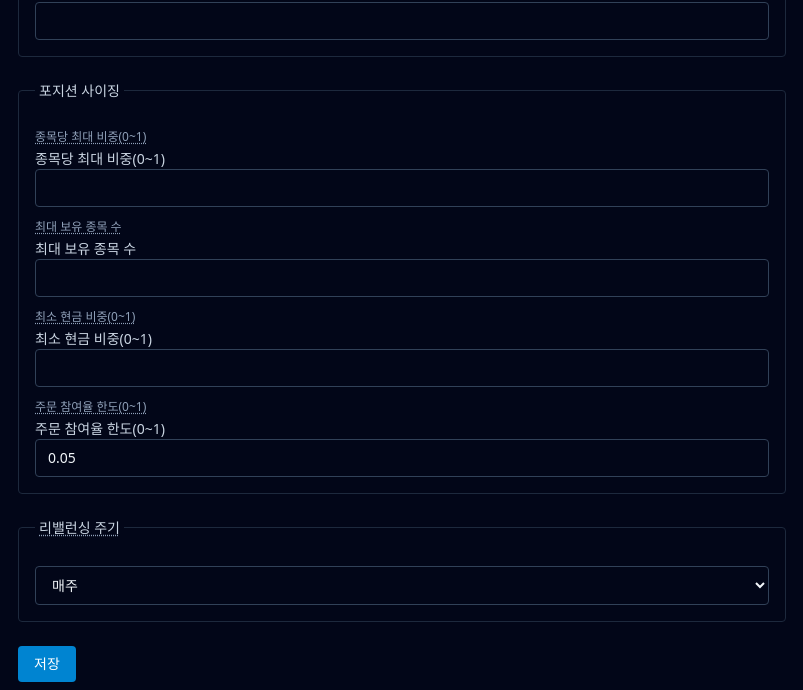
Test: StrategyEditPage › shows an inline error when the backend rejects the save (422)
(page scrolled)
Click the button "저장" at (47, 664), box [18,646,76,682]
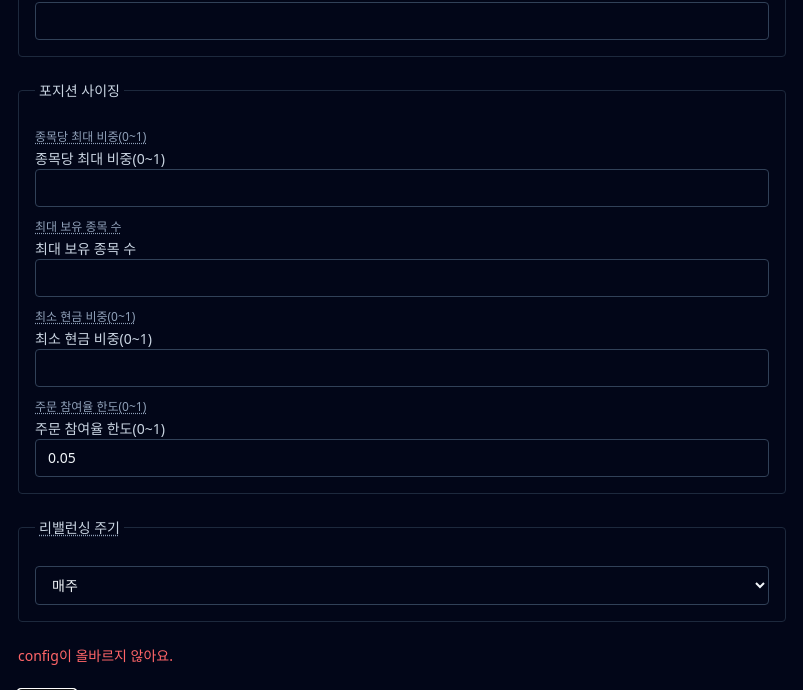
Result: the text "config이 올바르지 않아요." is shown at [18,646,173,664]
